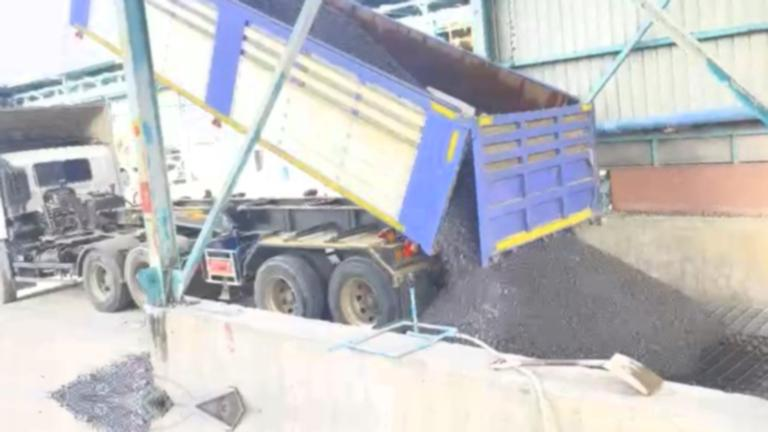gravel: (424, 165, 722, 378), (311, 3, 419, 84), (51, 352, 170, 404), (182, 0, 308, 24)
